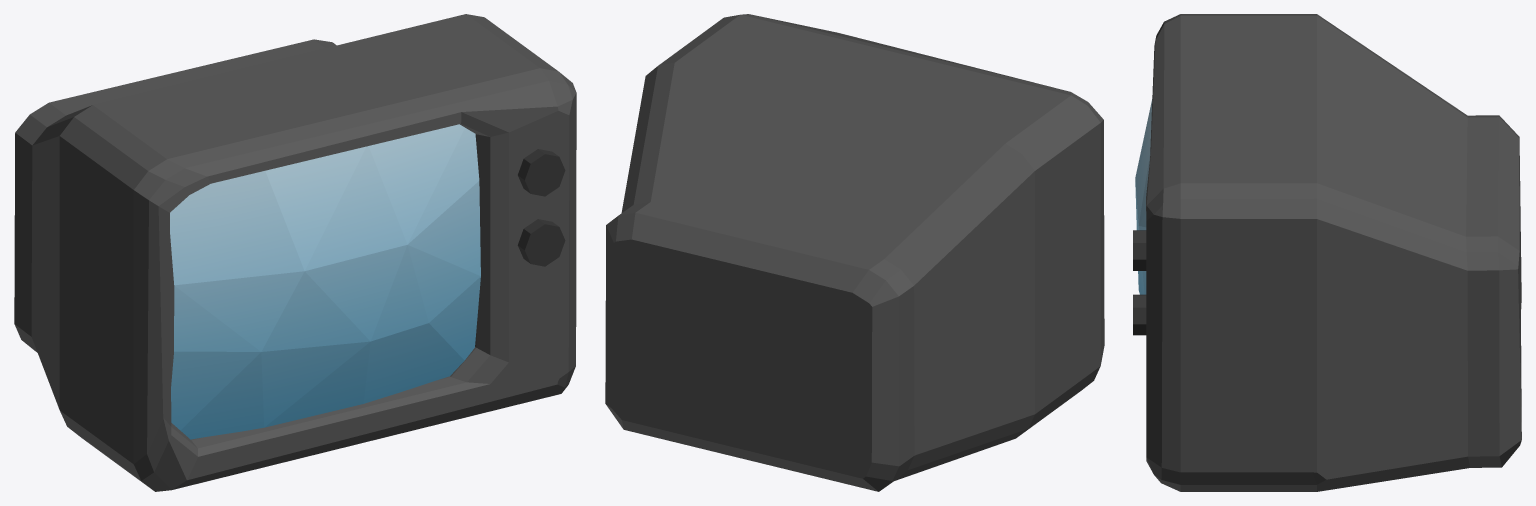
Rendered from OldTV.fbx.
3 views of the same model, side by side, from view 1: azimuth 30°, elevation 25°; view 2: azimuth 150°, elevation 25°; view 3: azimuth 270°, elevation 25° (orthographic). The views are drawn at different scales.
Parts seen in each view (by area): view 1: OldTV; view 2: OldTV; view 3: OldTV.
Boxes of the visible parts, x1=… form: OldTV: x1=14, y1=14, x2=576, y2=491; OldTV: x1=605, y1=14, x2=1104, y2=491; OldTV: x1=1133, y1=14, x2=1521, y2=491.
Size of the model in its own units: 0.8505 by 0.6112 by 0.7085.
Materials: 1 (1 with a texture image).
